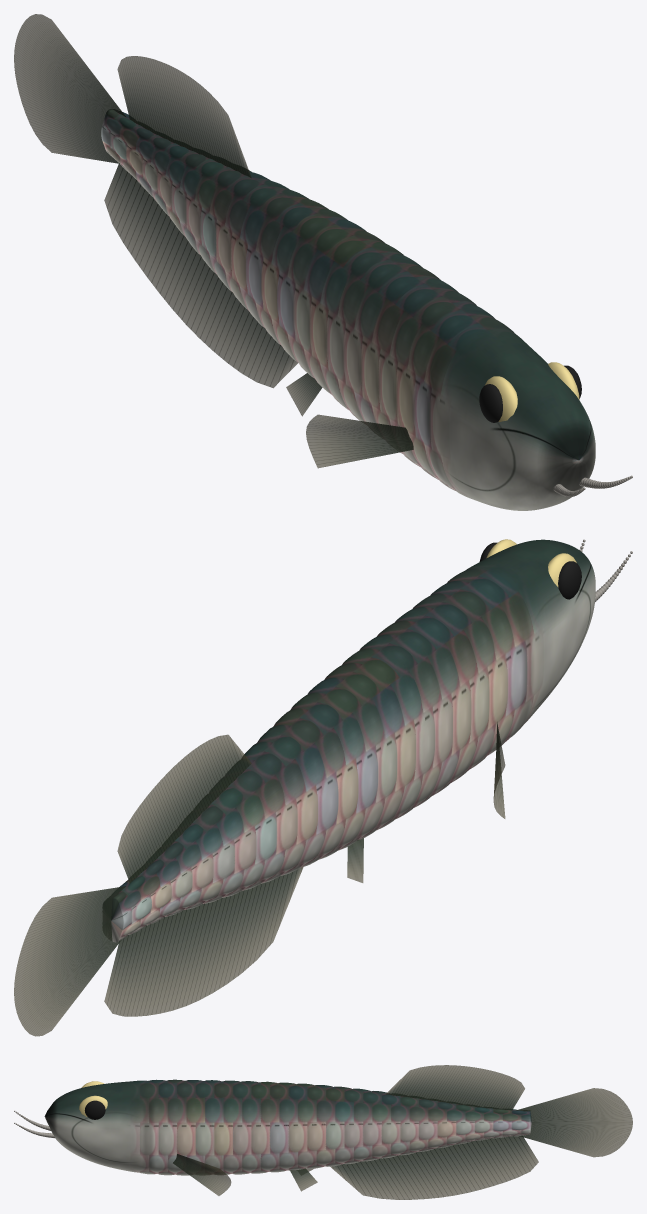
File: arowana_1.glb
3 renders of one model, top to bottom at view 1: azimuth 30°, elevation 25°; view 2: azimuth 150°, elevation 25°; view 3: azimuth 270°, elevation 25°, orthographic. The views are drawn at different scales.
Parts seen in each view (by area): view 1: body, fins, iris, pupil; view 2: body, fins, pupil, iris; view 3: body, fins, pupil, iris, barbel.
Boxes of the visible parts, x1,y1,x2,y2 form: body: (101, 109, 595, 510); fins: (14, 14, 413, 468); iris: (485, 362, 579, 421); pupil: (479, 365, 581, 422); body: (103, 539, 595, 942); fins: (14, 722, 505, 1036); pupil: (479, 542, 581, 599); iris: (486, 539, 576, 587); body: (44, 1079, 531, 1175); fins: (173, 1065, 632, 1199); pupil: (84, 1100, 105, 1119); iris: (79, 1081, 107, 1116); barbel: (14, 1110, 54, 1138).
Size of the model in its own units: 0.2005 by 0.2644 by 1.1.
Materials: 5 (2 with a texture image).
